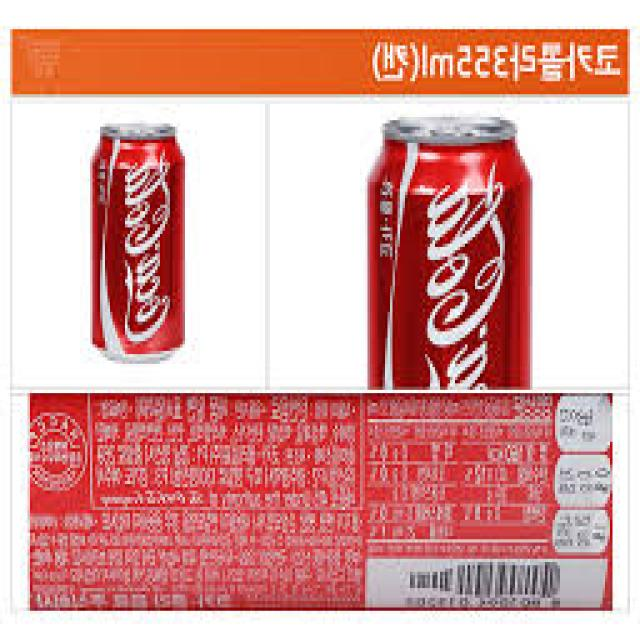Coca-Cola: (365, 112, 535, 392), (84, 118, 200, 365)
